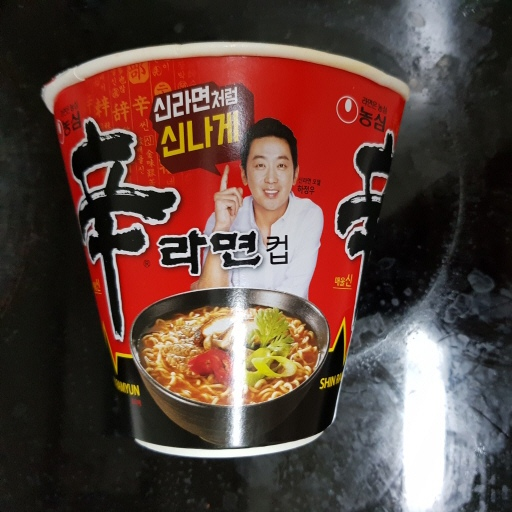Paper_1: (39, 48, 407, 457)
